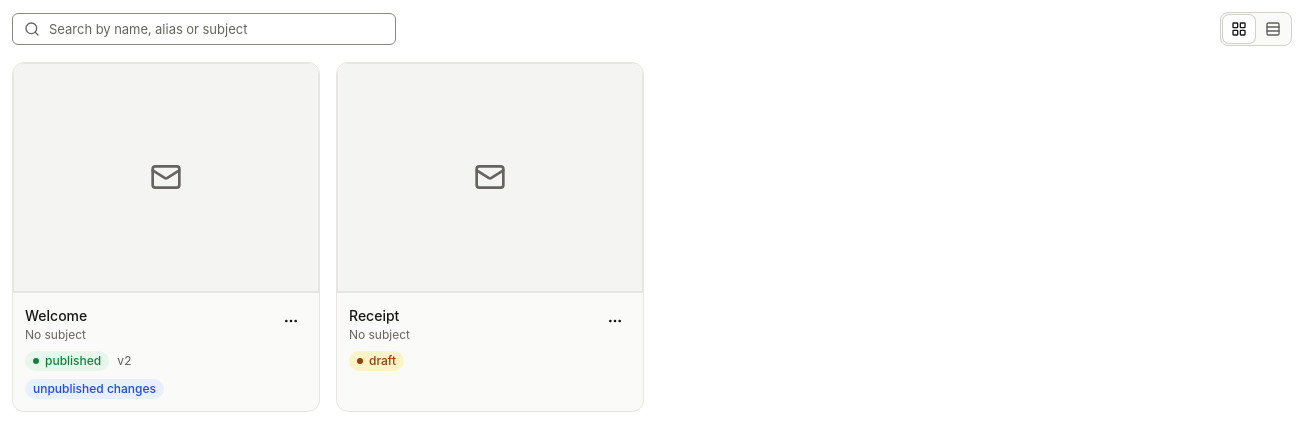
Test case: templates › searches, toggles table view and flags unpublished changes
The width and height of the screenshot is (1304, 429).
Expected: the text "unpublished changes" is shown, [25,378,164,398]
Type "rec" into the search field named "Search templates" at x=204, y=29, box [12,13,396,45]
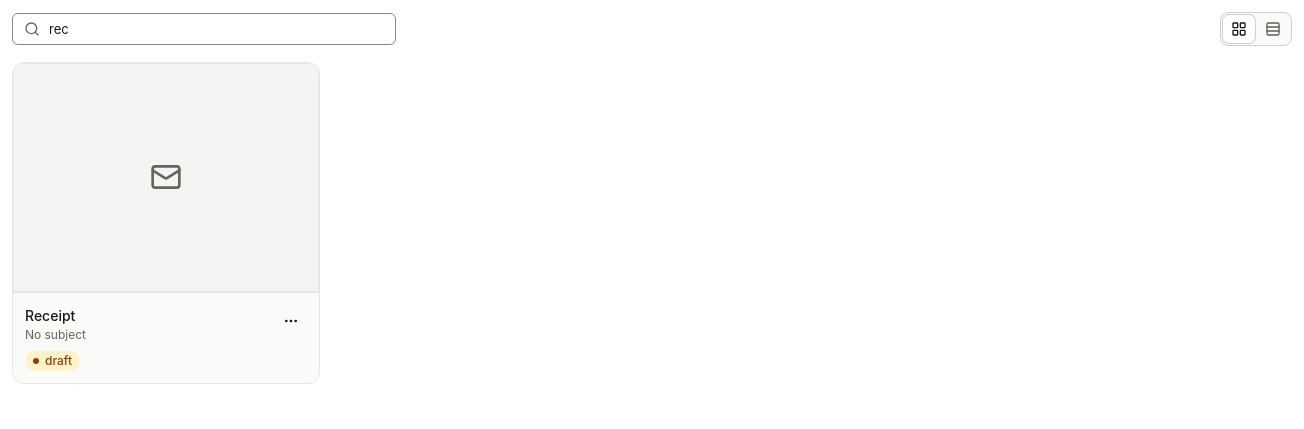
Now the link "Welcome" is gone
Replace the text in the search field named "Search templates" with "zzz" at x=204, y=29, box [12,13,396,45]
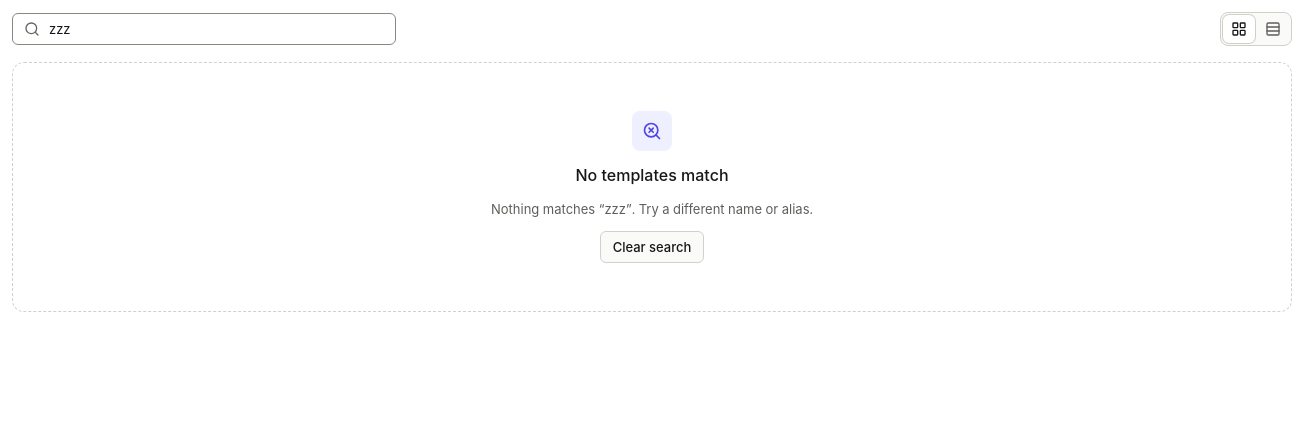
Now the heading "No templates match" is shown, box [576,163,728,187]
Clear the search field named "Search templates" at x=204, y=29, box [12,13,396,45]
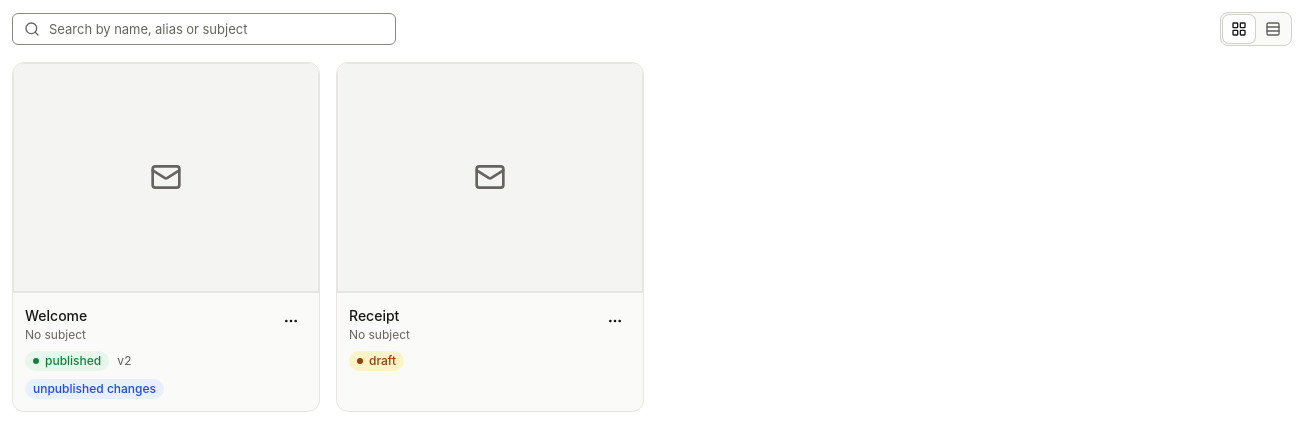
Click the radio button named "Table view" at x=1273, y=29, box [1257,15,1289,43]
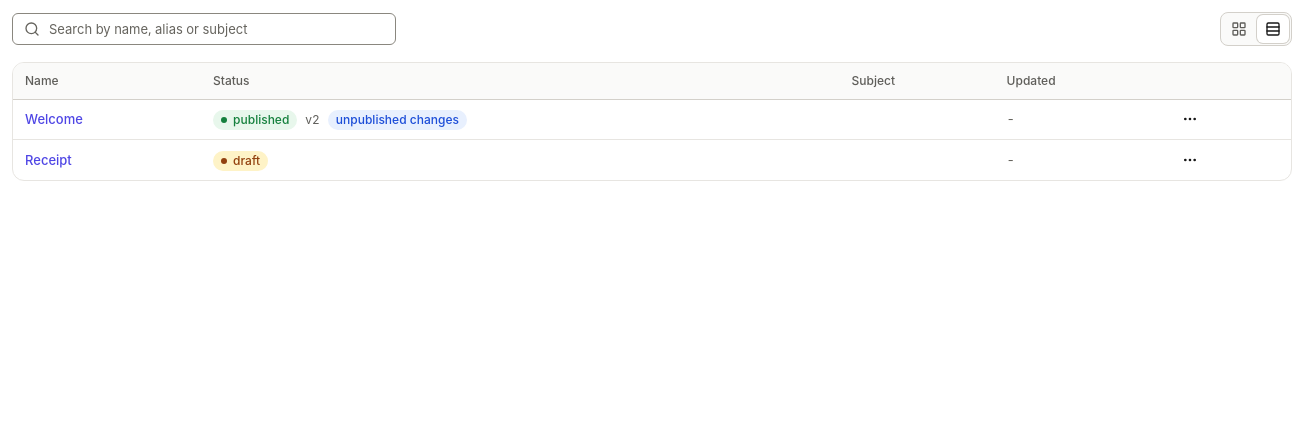
Now the table is shown, box [13,63,1291,180]
